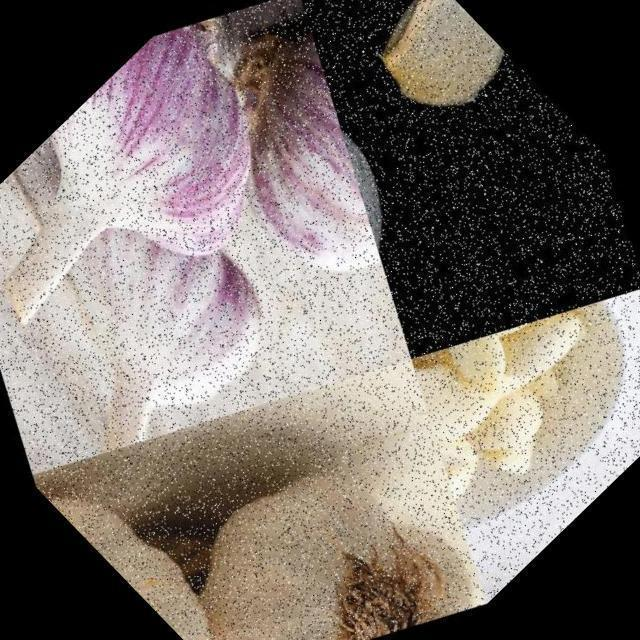garlic: (74, 0, 516, 409), (0, 0, 370, 428), (0, 109, 361, 527), (112, 347, 534, 640), (361, 253, 640, 561), (39, 411, 308, 640), (294, 0, 537, 178)
